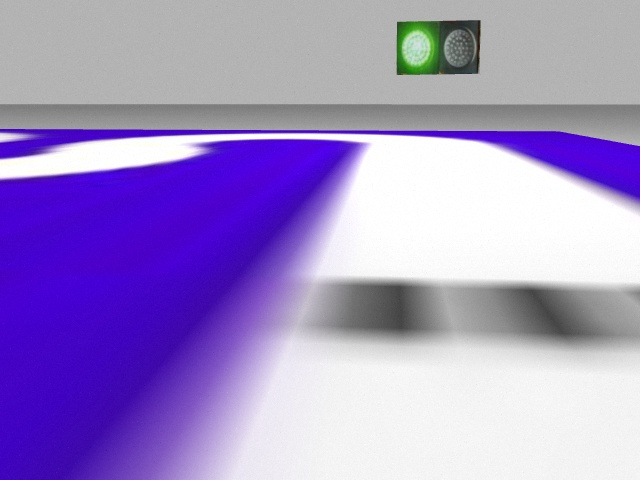green: (396, 23, 439, 74)
